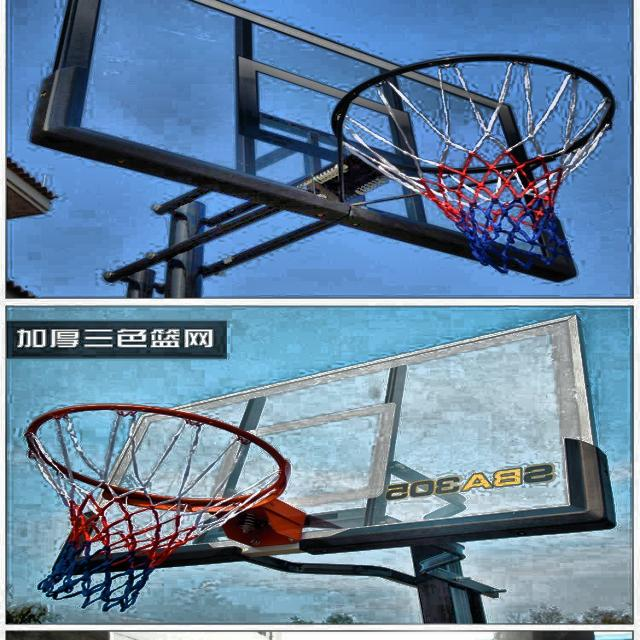rim: (330, 52, 619, 276), (23, 403, 290, 614)
